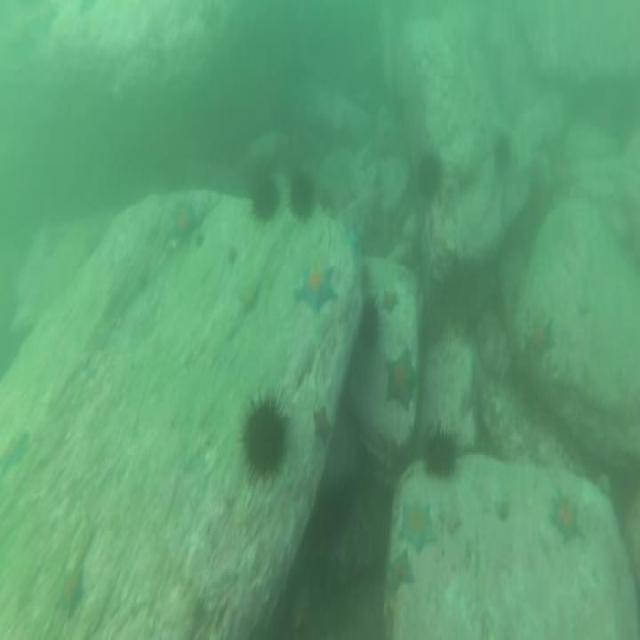echinus: (236, 384, 294, 488), (420, 423, 460, 482), (412, 145, 444, 207), (287, 164, 318, 226), (247, 172, 281, 226), (358, 291, 382, 354), (491, 125, 513, 178)
starfish: (396, 500, 440, 564), (293, 261, 339, 319), (384, 340, 419, 414), (543, 144, 581, 207), (549, 484, 584, 552), (55, 564, 87, 624), (0, 428, 30, 488), (386, 547, 416, 600), (168, 198, 198, 248), (527, 313, 557, 362), (310, 400, 332, 449), (236, 276, 263, 314), (377, 286, 402, 316), (381, 602, 398, 640)
